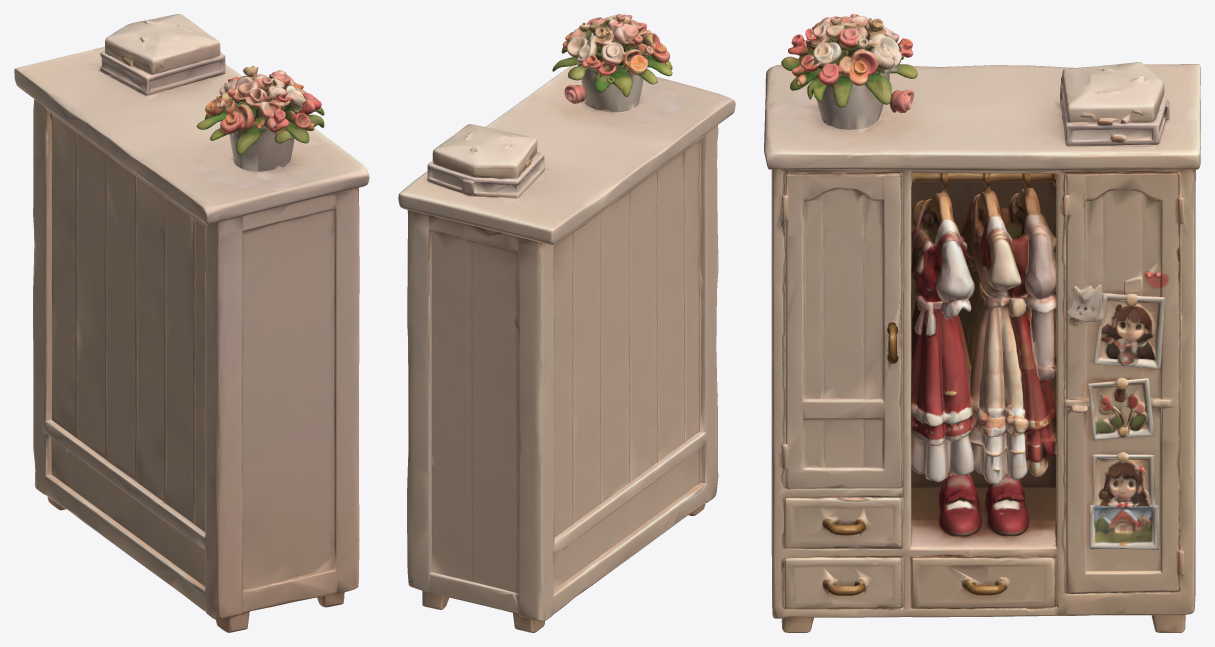
File: wardrobe-033356ad26d4.glb
3 renders of one model, left to right at view 1: azimuth 30°, elevation 25°; view 2: azimuth 150°, elevation 25°; view 3: azimuth 270°, elevation 25°, orthographic. The views are drawn at different scales.
Visible parts, largest first — view 1: tripo_node_d1d887a3-ffa3-4c24-a92e-646644916365; view 2: tripo_node_d1d887a3-ffa3-4c24-a92e-646644916365; view 3: tripo_node_d1d887a3-ffa3-4c24-a92e-646644916365.
Part boxes in pixels (<box>): tripo_node_d1d887a3-ffa3-4c24-a92e-646644916365: <box>14,14,369,632</box>; tripo_node_d1d887a3-ffa3-4c24-a92e-646644916365: <box>398,14,735,632</box>; tripo_node_d1d887a3-ffa3-4c24-a92e-646644916365: <box>764,14,1200,632</box>.
Size of the model in its own units: 0.3529 by 0.9995 by 0.6751.
1 material, 1 textured.
